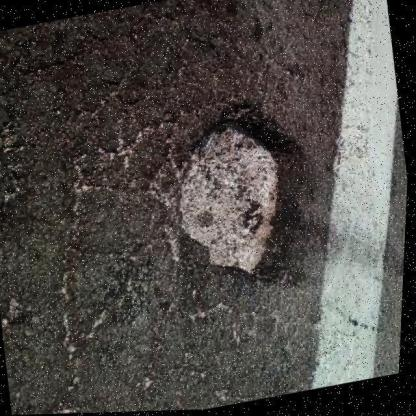pothole: (160, 92, 327, 297)
